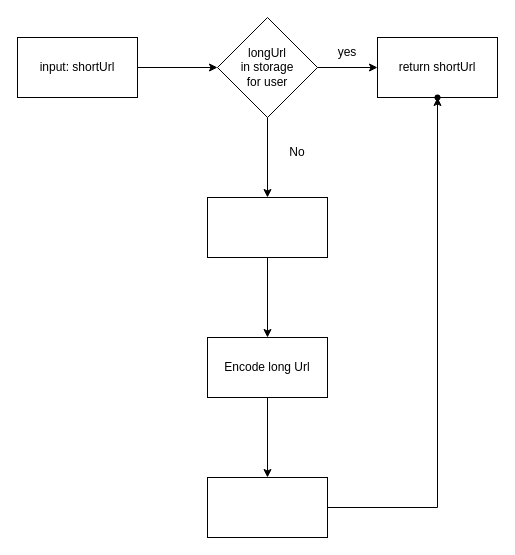
Image size: 515x555. Some labels were removed from this diagram. Each missing label, with the box of its shape:
Add to DB: (206, 476, 328, 538)
Generate new ID: (206, 196, 328, 258)
